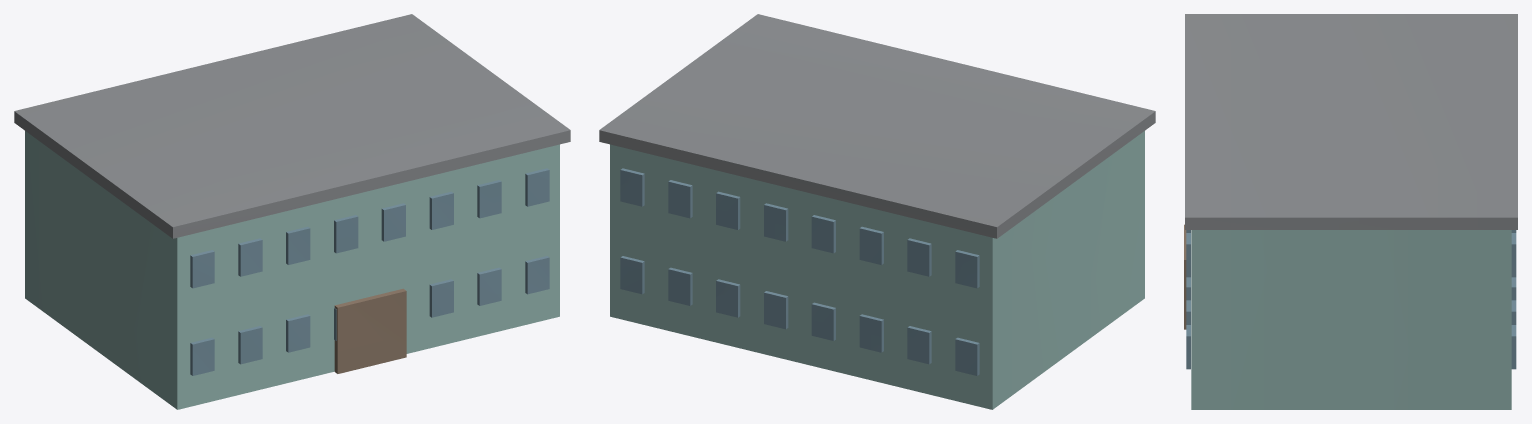
Rendered from warehouse-04.glb.
3 views of the same model, side by side, from view 1: azimuth 30°, elevation 25°; view 2: azimuth 150°, elevation 25°; view 3: azimuth 270°, elevation 25° (orthographic). The views are drawn at different scales.
Visible parts, largest first — view 1: world; view 2: world; view 3: world.
Part boxes in pixels (x1=…): world: x1=14, y1=14, x2=570, y2=409; world: x1=599, y1=14, x2=1155, y2=409; world: x1=1184, y1=14, x2=1517, y2=409.
Size of the model in its own units: 2.51 by 1.13 by 1.74.
